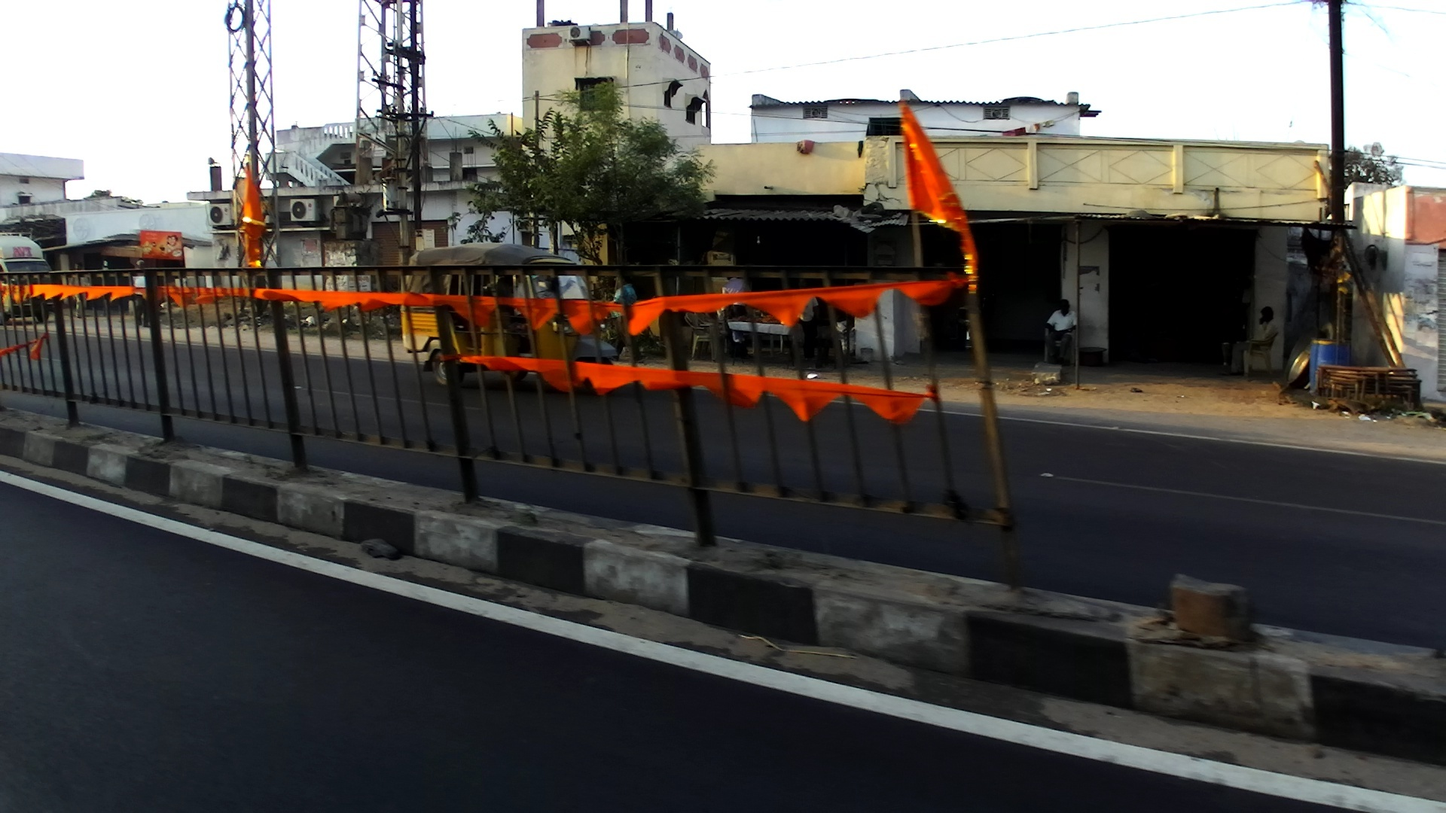autorickshaw: (402, 247, 577, 309)
person: (1226, 306, 1280, 377), (1045, 297, 1076, 364)
truck: (2, 230, 49, 288)
